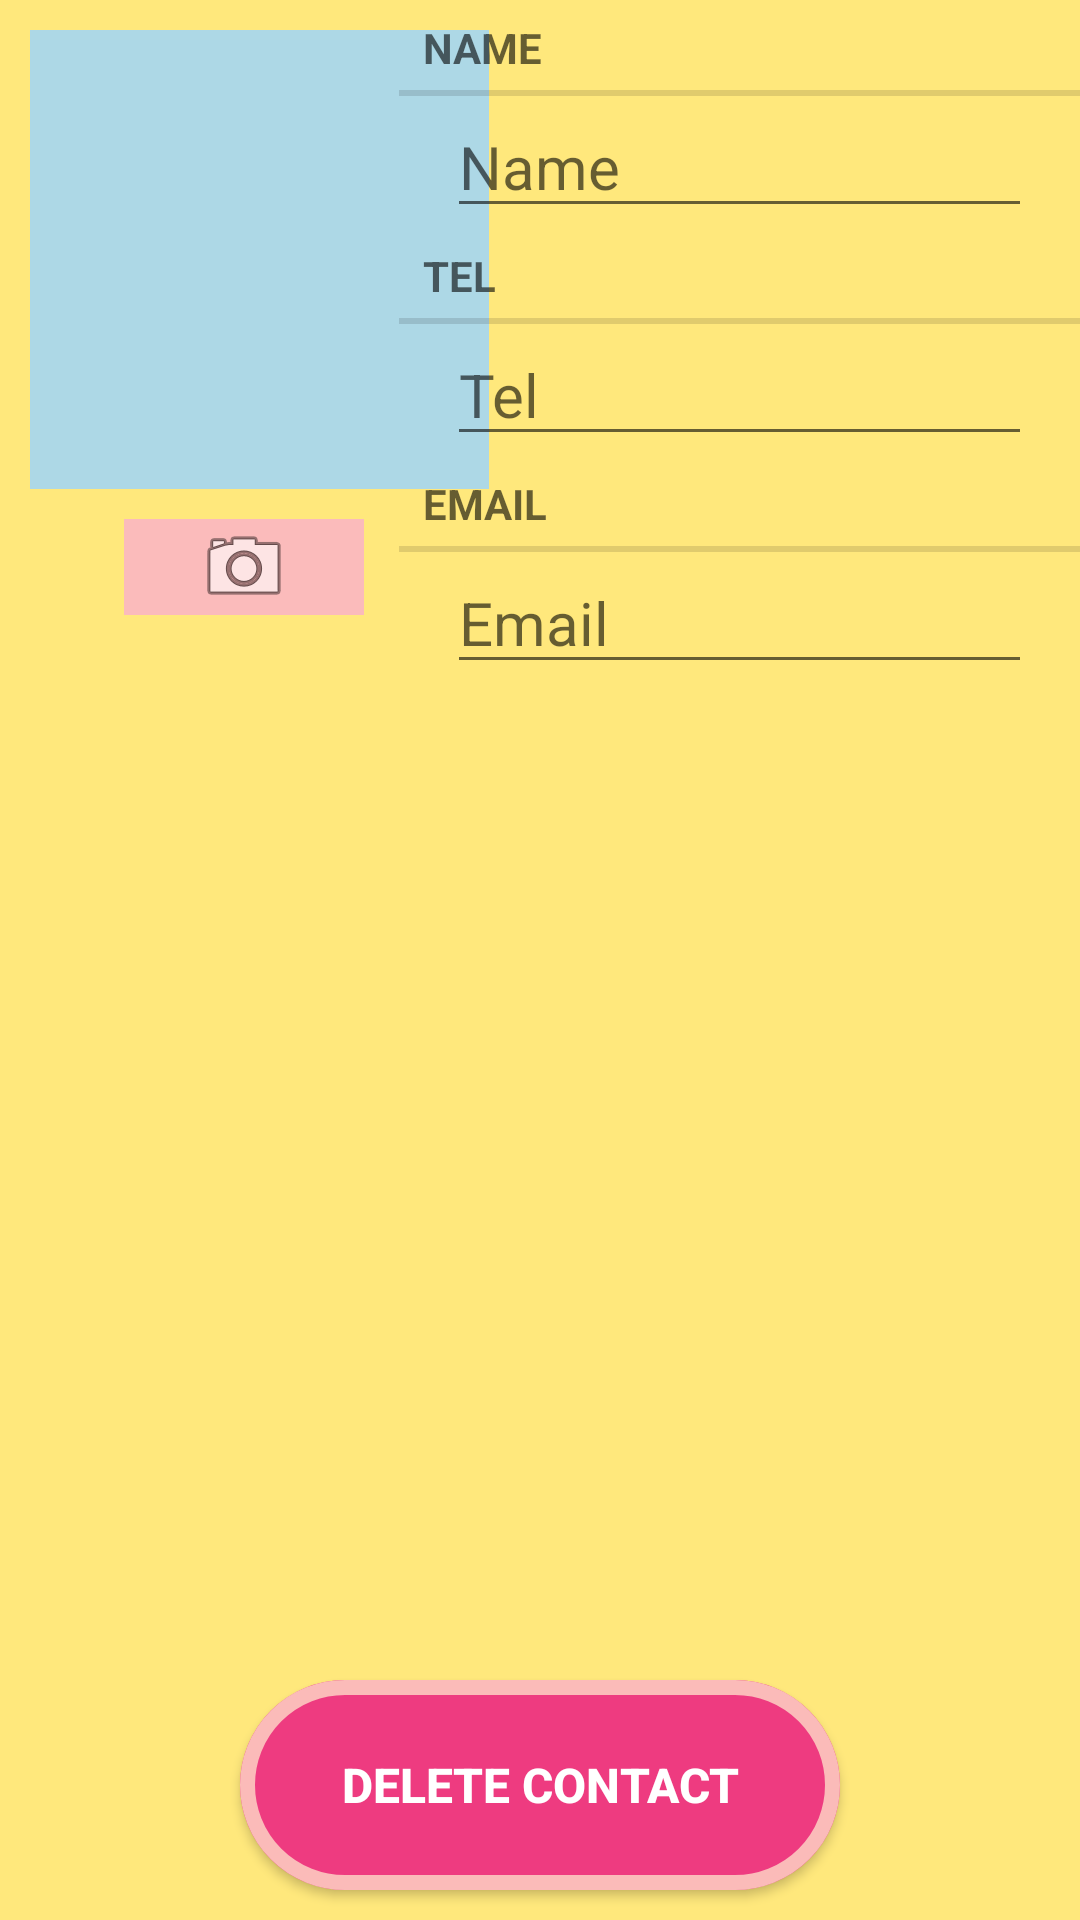

Where icons sit on this 1080w x 1920h app screen, as (left=x1, top=y1, right=x2, bottom=y2):
camera: (left=124, top=519, right=364, bottom=615)
